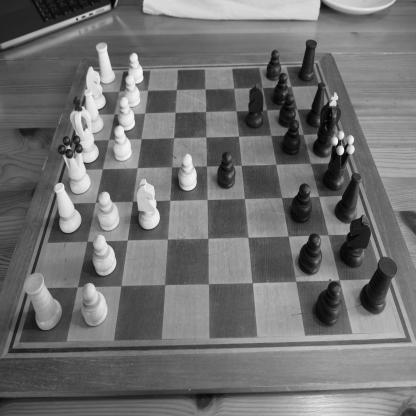black-bishop: (335, 172, 368, 224), (306, 82, 337, 128)
black-king: (312, 92, 342, 158)
black-knight: (340, 214, 376, 268), (245, 83, 264, 129)
black-pawn: (315, 281, 342, 326), (298, 233, 322, 275), (290, 183, 312, 224), (217, 151, 236, 190), (282, 119, 302, 156), (278, 93, 297, 128), (272, 72, 290, 106), (266, 48, 282, 82)
black-queen: (323, 130, 355, 192)
black-rook: (359, 256, 398, 314), (298, 39, 325, 82)
white-bishop: (54, 182, 82, 235), (84, 88, 104, 135)
white-king: (69, 96, 100, 164)
white-knight: (136, 178, 161, 231), (86, 66, 107, 111)
white-pawn: (80, 282, 108, 327), (92, 234, 117, 277), (97, 191, 120, 232), (178, 153, 198, 192), (112, 126, 132, 162), (117, 96, 136, 132), (124, 74, 141, 108), (128, 52, 144, 85)
white-queen: (58, 135, 92, 195)
white-rook: (23, 272, 63, 332), (95, 42, 116, 85)
